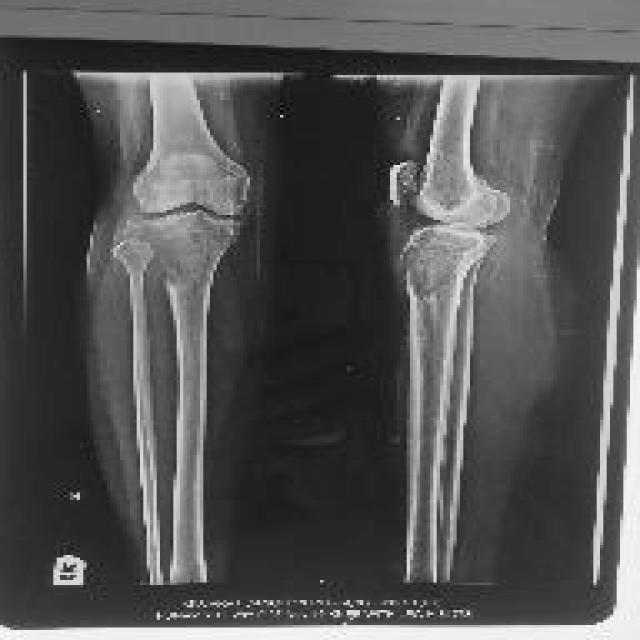bone-cancer: (404, 230, 478, 302), (138, 227, 224, 288)
